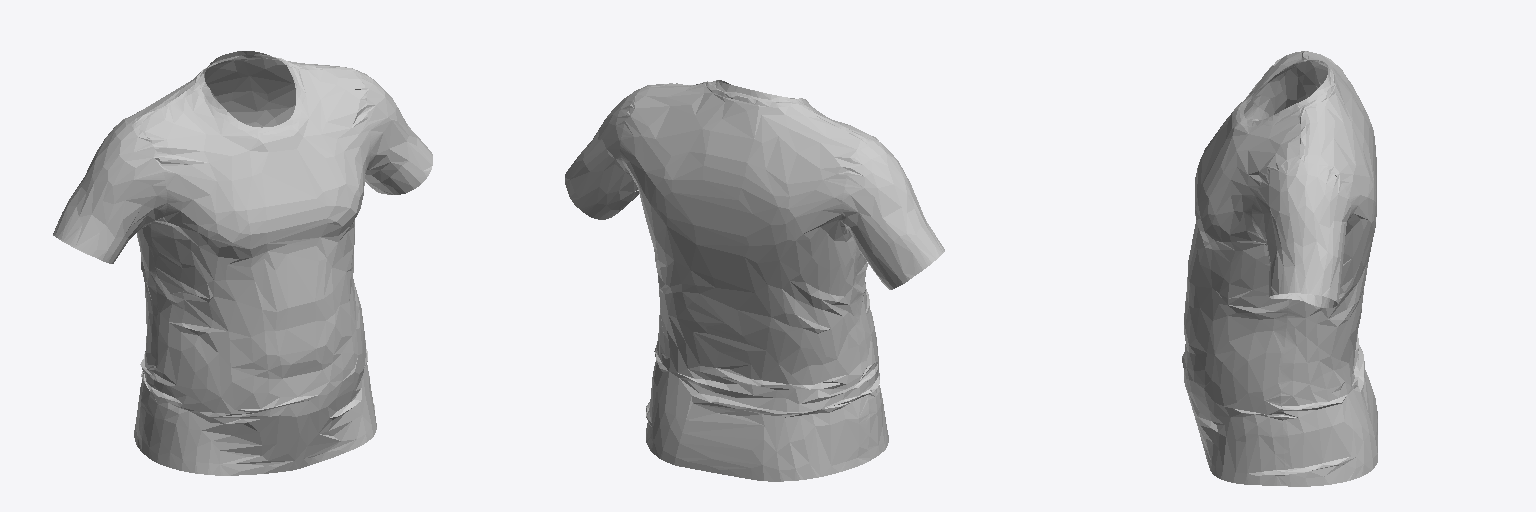
Rendered from tshirt_188_c112_w106_d95_p1_scaled.obj.
3 renders of one model, left to right at view 1: azimuth 30°, elevation 25°; view 2: azimuth 150°, elevation 25°; view 3: azimuth 270°, elevation 25°, orthographic.
Visible parts, largest first — view 1: tshirt_188_c112_w106:Mesh1; view 2: tshirt_188_c112_w106:Mesh1; view 3: tshirt_188_c112_w106:Mesh1.
Part boxes in pixels (x1,y1,x2,y2): tshirt_188_c112_w106:Mesh1: (53,51,432,475); tshirt_188_c112_w106:Mesh1: (565,80,944,481); tshirt_188_c112_w106:Mesh1: (1182,51,1377,486).
Size of the model in its own units: 2.13 by 2.04 by 0.9806.